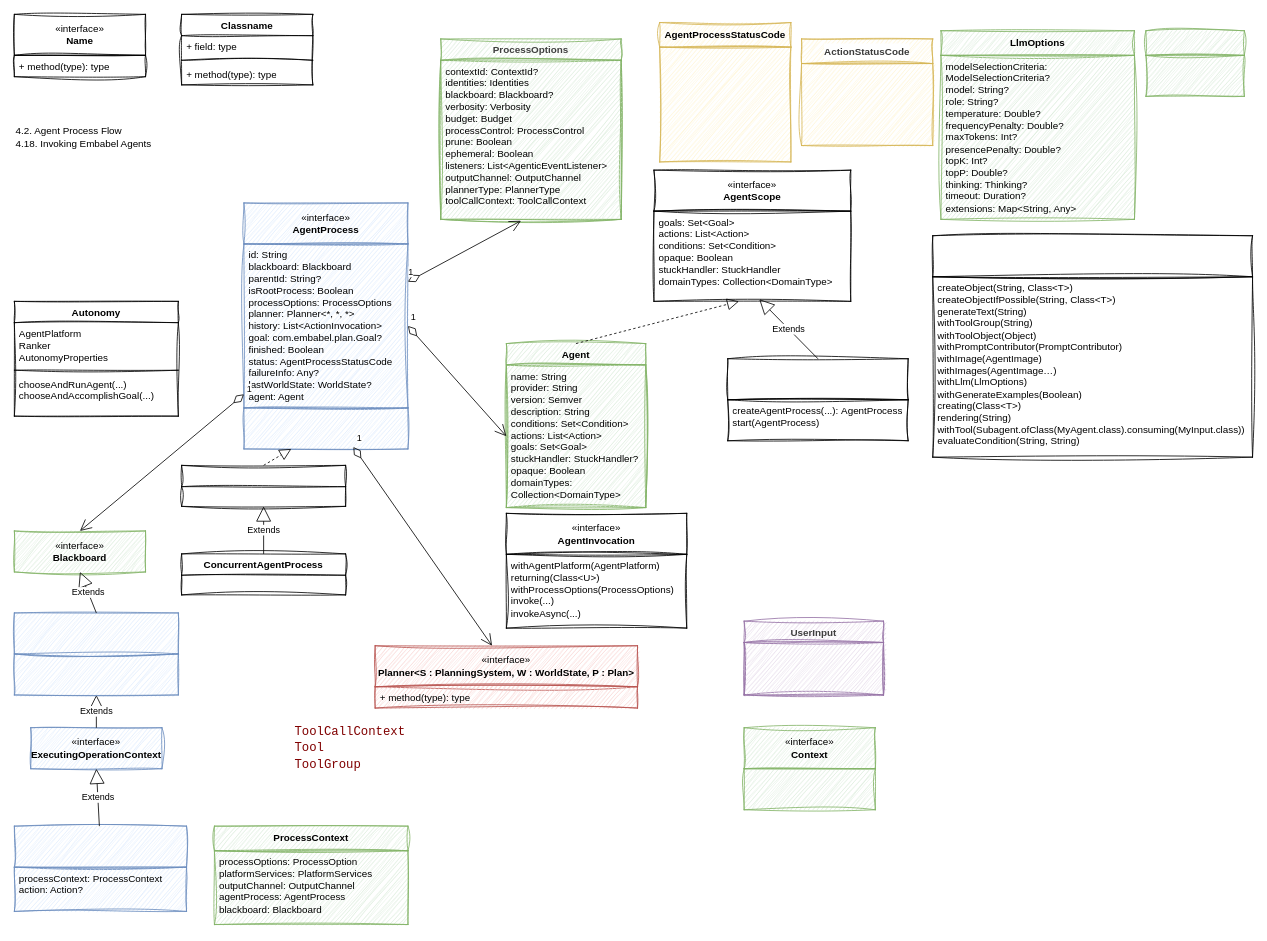
This 1267x941 diagram has some shape labels left out. The centre of each missing label's shape, as x and y in pixels:
AgentImage: [1194,42]
content: String timestamp: Instant: [813,668]
id: String objects: List<Any>: [809,789]
mimeType: String data: ByteArray: [1194,75]
NOT_STARTED RUNNING COMPLETED FAILED TERMINATED KILLED STUCK WAITING PAUSED: [725,104]
processContext: ProcessContext agentProcess: AgentProcess operation: Operation: [96,674]
run() tick(): [325,428]
SimpleAgentProcess: [263,485]
SUCCEEDED FAILED WAITING PAUSED TERMINATED AGENT_TERMINATED: [867,104]
«interface» ActionContext: [100,846]
«interface» AgentPlatform: [817,379]
«interface» OperationContext: [96,633]
«interface» PromptRunner: [1092,256]
